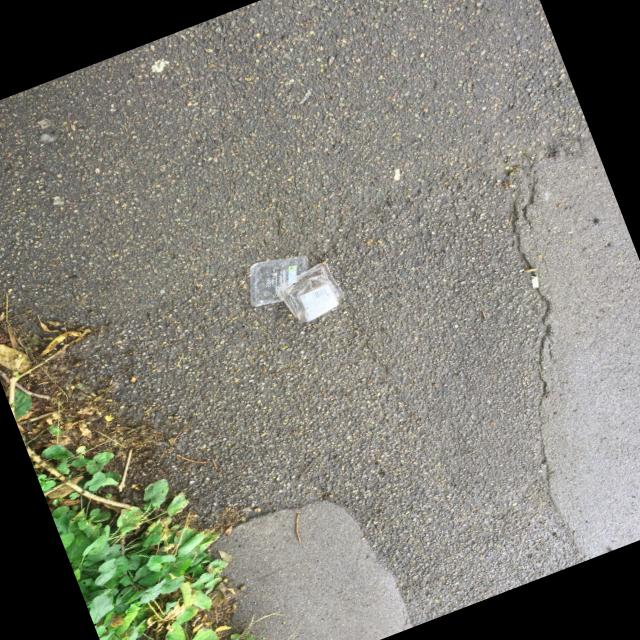less trash: (249, 256, 344, 323)
